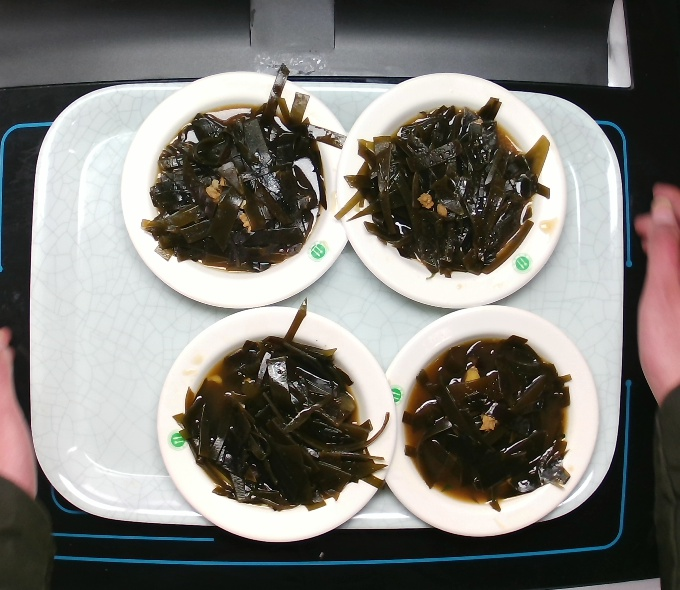wcq-HaiDai: (178, 333, 387, 512), (341, 101, 548, 276), (141, 106, 322, 272), (397, 338, 572, 503)
